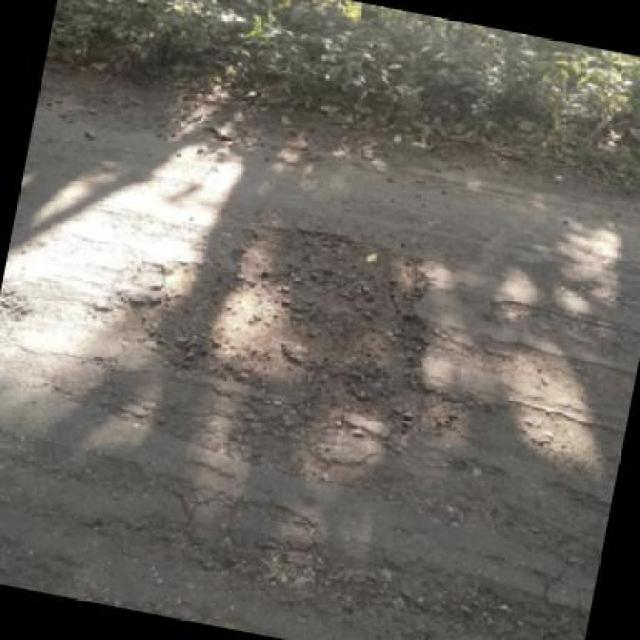pothole1: (93, 188, 464, 450)
